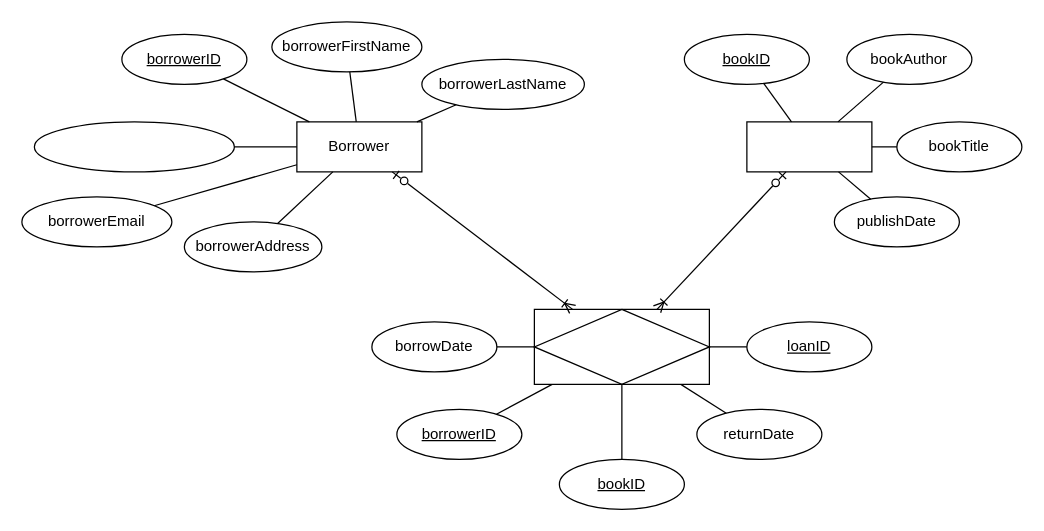
This 1044x531 diagram has some shape labels left out. Here are the shapes that lost their labels. From the top down, the centre of each, then its label:
At point (133, 146): "borrowerPhoneNUmber".
At point (809, 146): "Book".
At point (621, 346): "Loan".
